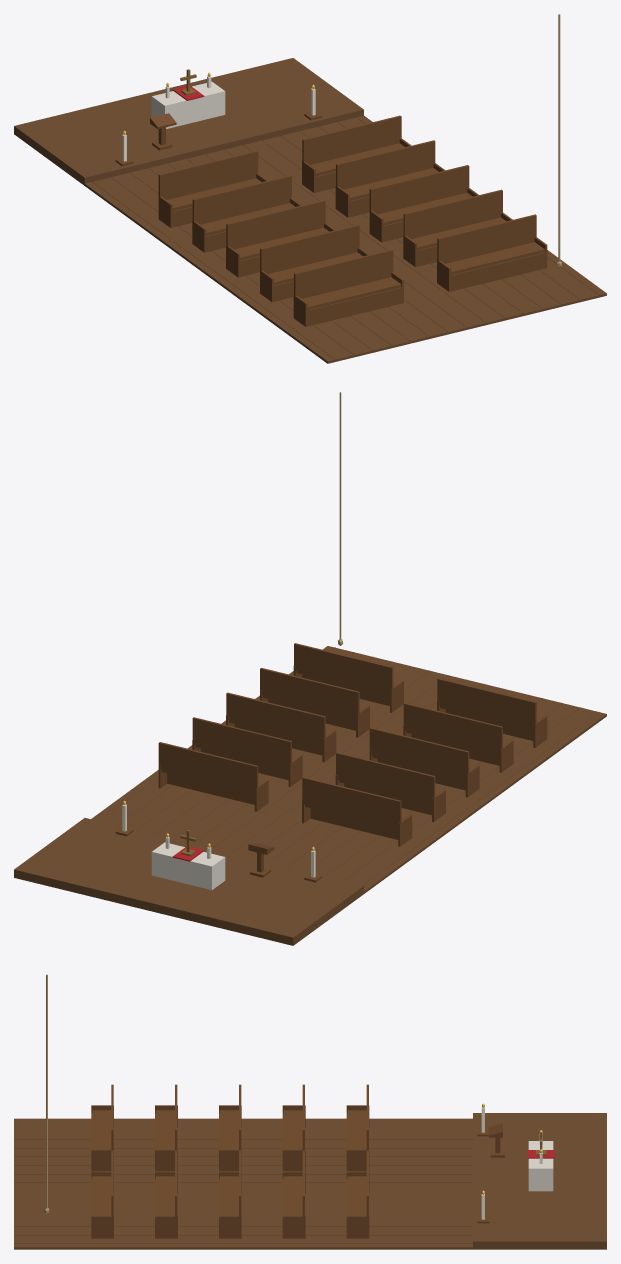
The model's file is church_interior.fbx.
3 renders of one model, top to bottom at view 1: azimuth 30°, elevation 25°; view 2: azimuth 150°, elevation 25°; view 3: azimuth 270°, elevation 25°, orthographic. The views are drawn at different scales.
Parts seen in each view (by area): view 1: Church_Pew, Church_Floor, Church_Altar, Church_Rope; view 2: Church_Floor, Church_Pew, Church_Altar, Church_Rope; view 3: Church_Floor, Church_Pew, Church_Altar, Church_Rope.
Boxes of the visible parts, left/top/right/bottom form: Church_Pew: left=115, top=111, right=547, bottom=326; Church_Floor: left=14, top=58, right=606, bottom=363; Church_Altar: left=151, top=81, right=225, bottom=128; Church_Rope: left=556, top=14, right=561, bottom=267; Church_Floor: left=14, top=646, right=606, bottom=945; Church_Pew: left=115, top=643, right=547, bottom=882; Church_Altar: left=151, top=842, right=225, bottom=889; Church_Rope: left=338, top=392, right=343, bottom=645; Church_Floor: left=14, top=1113, right=606, bottom=1249; Church_Pew: left=91, top=1084, right=504, bottom=1238; Church_Altar: left=528, top=1141, right=553, bottom=1191; Church_Rope: left=44, top=974, right=49, bottom=1214.
Size of the model in its own units: 29.6 by 27.94 by 57.6.
